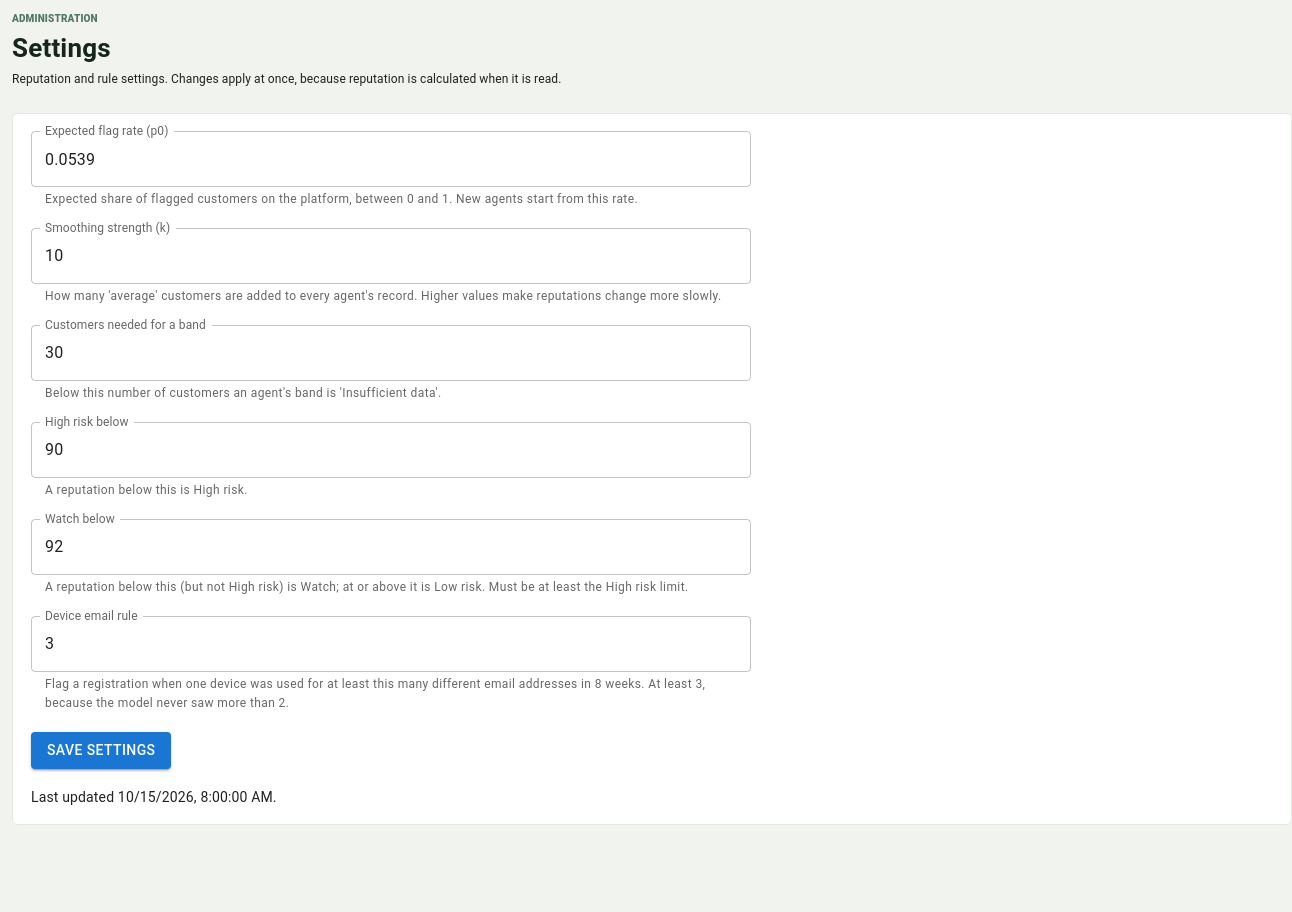
Test case: settings page › rejects Device email rule = 2
Expected: the field labelled "Expected flag rate (p0)" holds "0.0539", [31,131,751,187]
Replace the text in the field labelled "Device email rule" with "2" at point(391, 644), box [31,616,751,672]
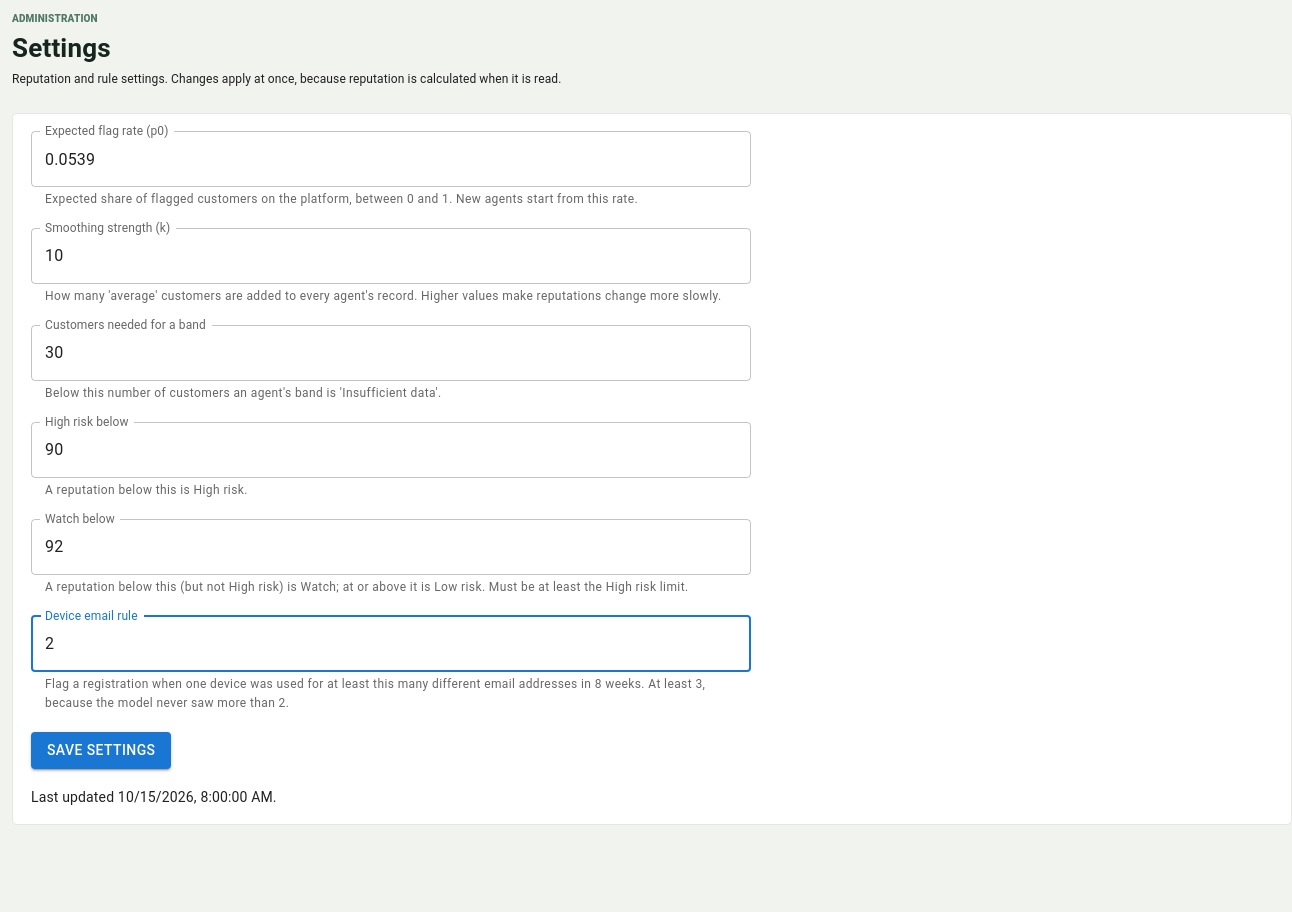
Click the button "Save settings" at point(101, 751), box [31,732,171,769]
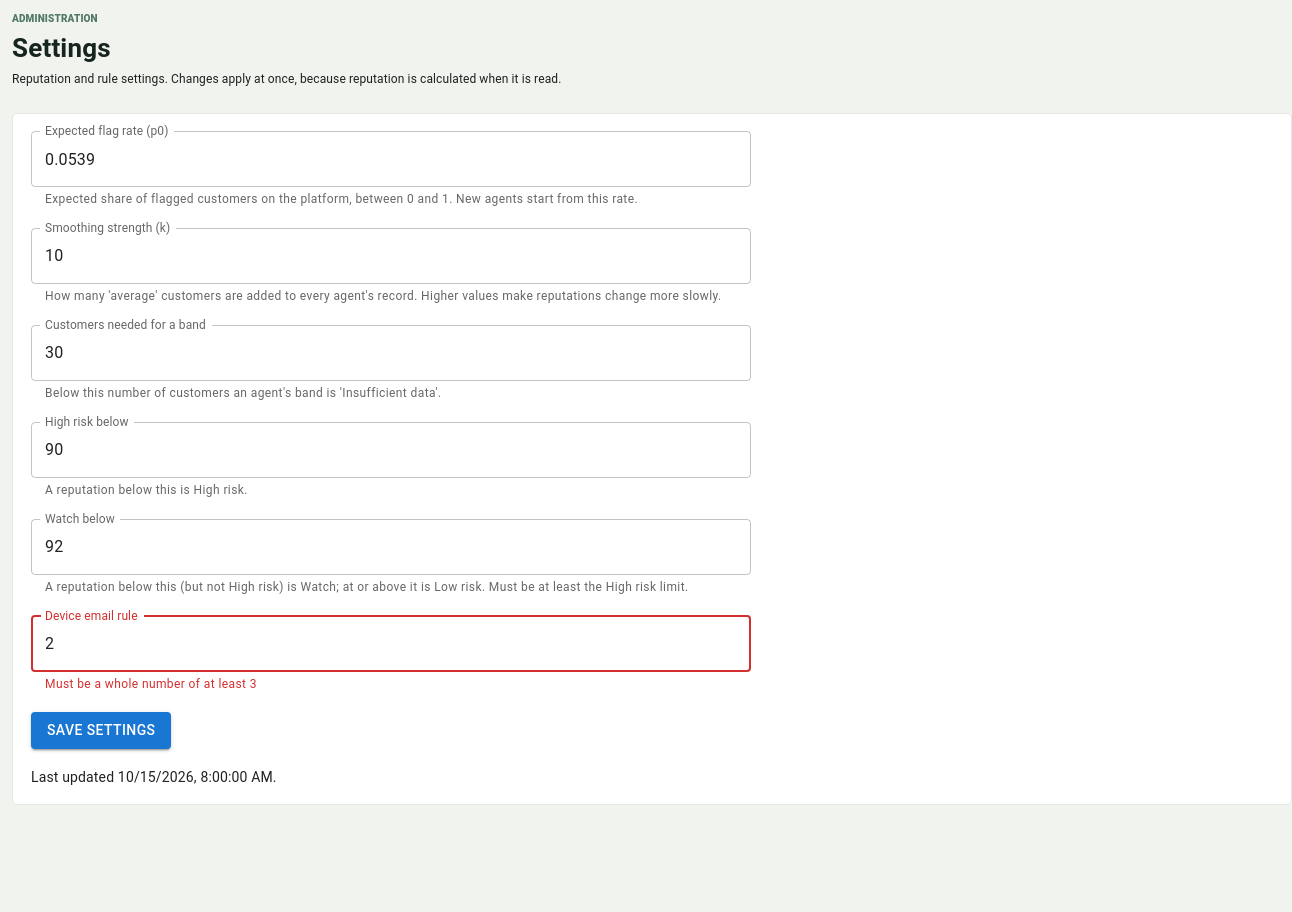
Expected: the text "Must be a whole number of at least 3" is shown, [45,676,257,690]
